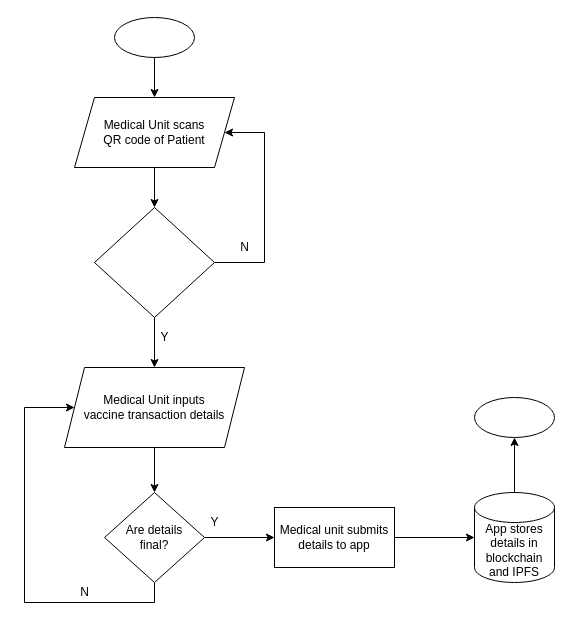
The diagram is 572 pixels wide and 628 high, and some of its shapes have lost their labels. The centre of each missing label's shape, as x and y in pixels:
"End" goes at (514,417).
"Is patient valid app user?" goes at (154,262).
"Start" goes at (154,37).
